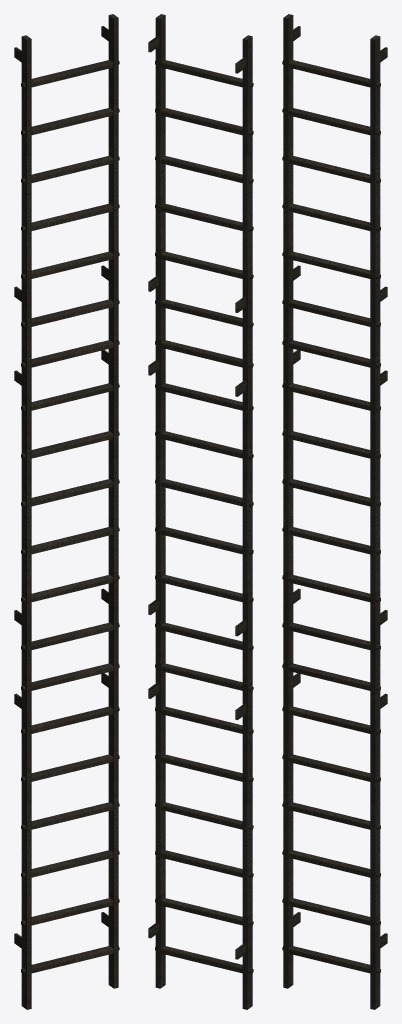
The model's file is ladder_hr_1_long.glb.
3 renders of one model, left to right at view 1: azimuth 30°, elevation 25°; view 2: azimuth 150°, elevation 25°; view 3: azimuth 330°, elevation 25°, orthographic.
Visible parts, largest first — view 1: ladder_hr_1_long; view 2: ladder_hr_1_long; view 3: ladder_hr_1_long.
Part boxes in pixels (left/top/right/bottom): ladder_hr_1_long: left=14, top=14, right=119, bottom=1009; ladder_hr_1_long: left=148, top=14, right=253, bottom=1009; ladder_hr_1_long: left=282, top=14, right=387, bottom=1009.
Bounding box in the file's own units: 0.84 × 8.1 × 0.21.
Materials: 1 (1 with a texture image).
